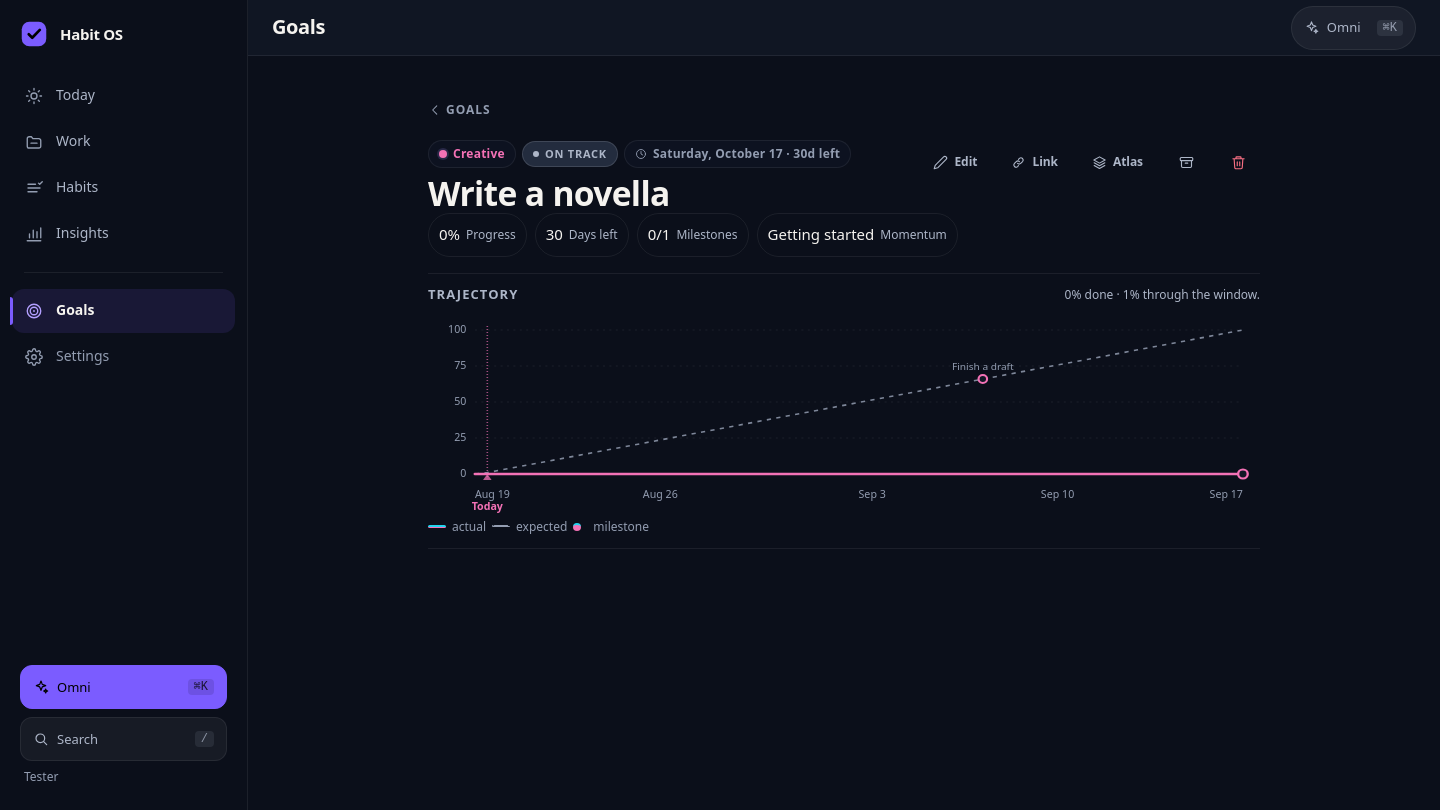
Test case: Step 6C — Goal Detail › archive + delete sheets open (existing confirm flow)
Expected: the heading "Write a novella" is shown, [428, 170, 670, 216]
Click the button named "Archive goal": coordinates (1186, 162) [1164, 140, 1208, 184]
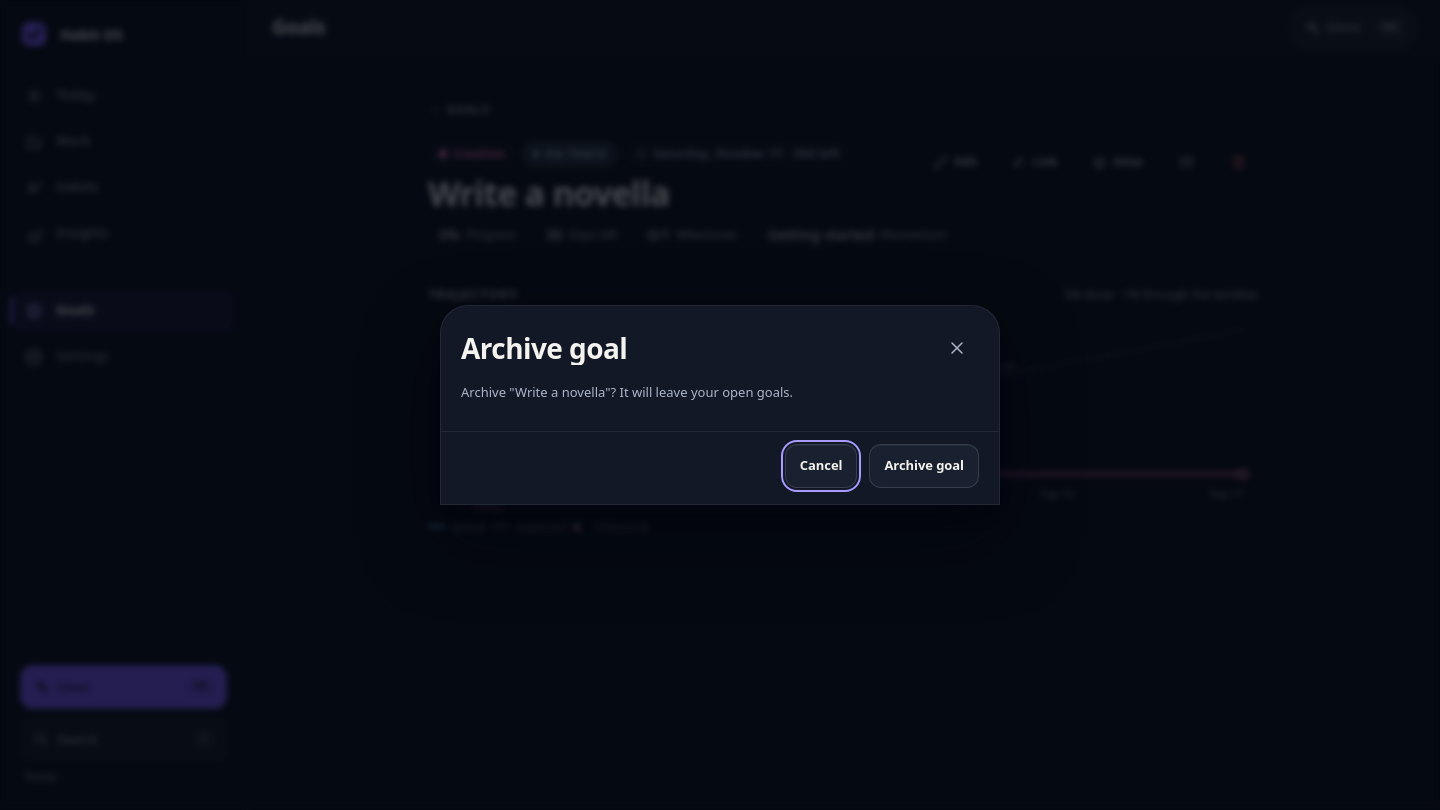
Result: the dialog "Archive goal" is shown at [440, 305, 1000, 504]
